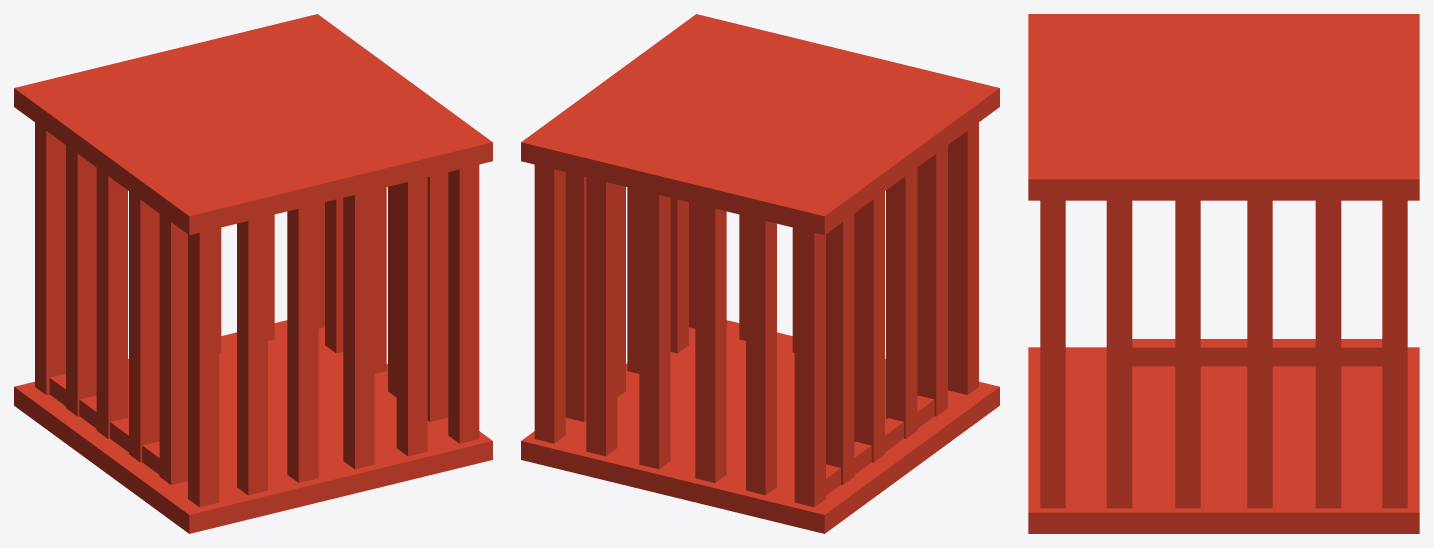
File: cage.fbx
3 renders of one model, left to right at view 1: azimuth 30°, elevation 25°; view 2: azimuth 150°, elevation 25°; view 3: azimuth 270°, elevation 25°, orthographic. The views are drawn at different scales.
Visible parts, largest first — view 1: Cage, CageDoor; view 2: Cage, CageDoor; view 3: Cage, CageDoor.
Part boxes in pixels (left/top/right/bottom): Cage: left=14, top=14, right=492, bottom=533; CageDoor: left=49, top=145, right=187, bottom=484; Cage: left=521, top=14, right=999, bottom=533; CageDoor: left=826, top=145, right=947, bottom=495; Cage: left=1028, top=14, right=1419, bottom=533; CageDoor: left=1132, top=339, right=1382, bottom=366.
Bounding box in the file's own units: 30 × 30 × 30.
